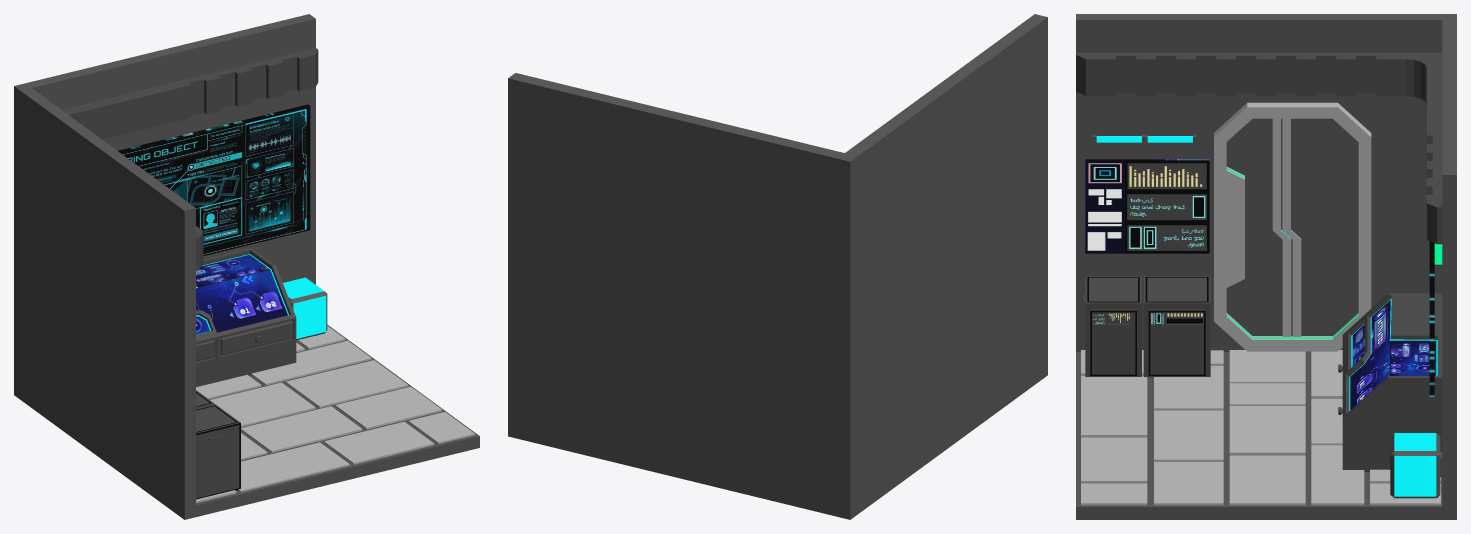
The model's file is low_poly_-_sci-fi_control_room_free_download 2.glb.
3 views of the same model, side by side, from view 1: azimuth 30°, elevation 25°; view 2: azimuth 150°, elevation 25°; view 3: azimuth 270°, elevation 25° (orthographic). The views are drawn at different scales.
Parts seen in each view (by area): view 1: Cube_2, Wall_3; view 2: Cube_2; view 3: Cube_2, Wall_3.
Boxes of the visible parts, <box> form: Cube_2: <box>14,14,479,519</box>; Wall_3: <box>196,326,474,503</box>; Cube_2: <box>508,14,1047,519</box>; Cube_2: <box>1076,14,1456,519</box>; Wall_3: <box>1081,350,1440,505</box>.
Bounding box in the file's own units: 2.63 × 2.63 × 2.63.
6 materials, 1 textured.
